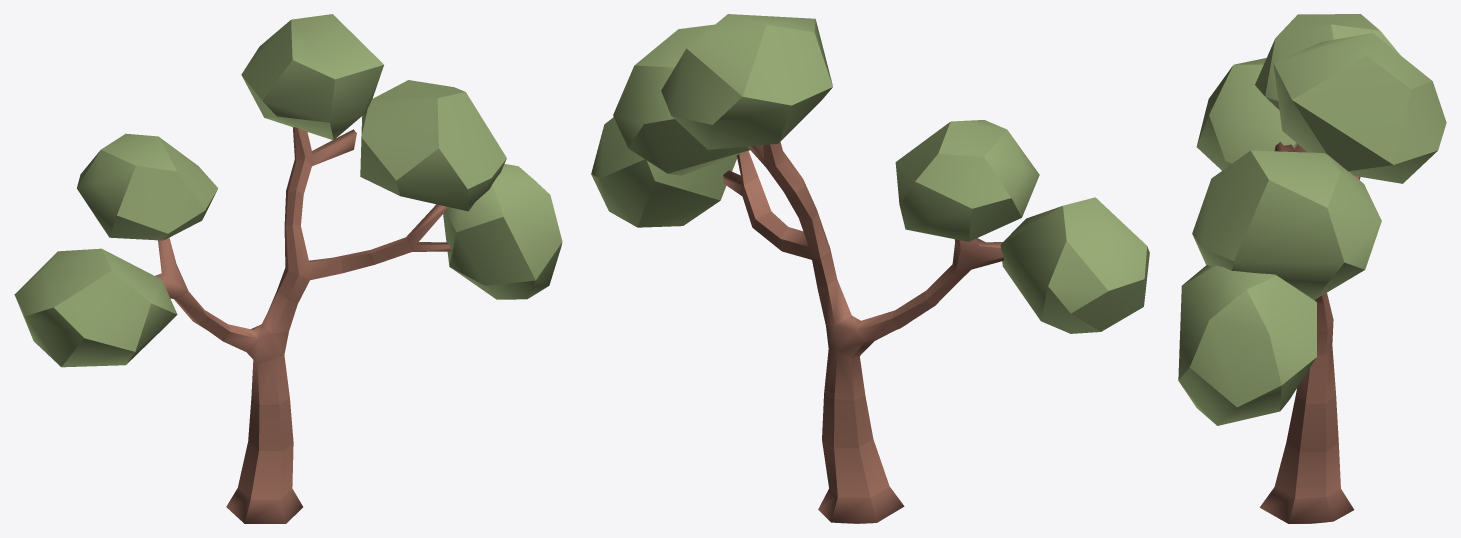
Rendered from rare_tree.fbx.
The picture shows the model from 3 angles, left to right: view 1: azimuth 30°, elevation 25°; view 2: azimuth 150°, elevation 25°; view 3: azimuth 270°, elevation 25°; orthographic projection. The views are drawn at different scales.
Parts seen in each view (by area): view 1: Icosphere.014; view 2: Icosphere.014; view 3: Icosphere.014.
Boxes of the visible parts, <box> form: Icosphere.014: <box>14,14,562,523</box>; Icosphere.014: <box>591,14,1149,523</box>; Icosphere.014: <box>1178,14,1446,523</box>.
Bounding box in the file's own units: 1241 × 1075 × 501.
